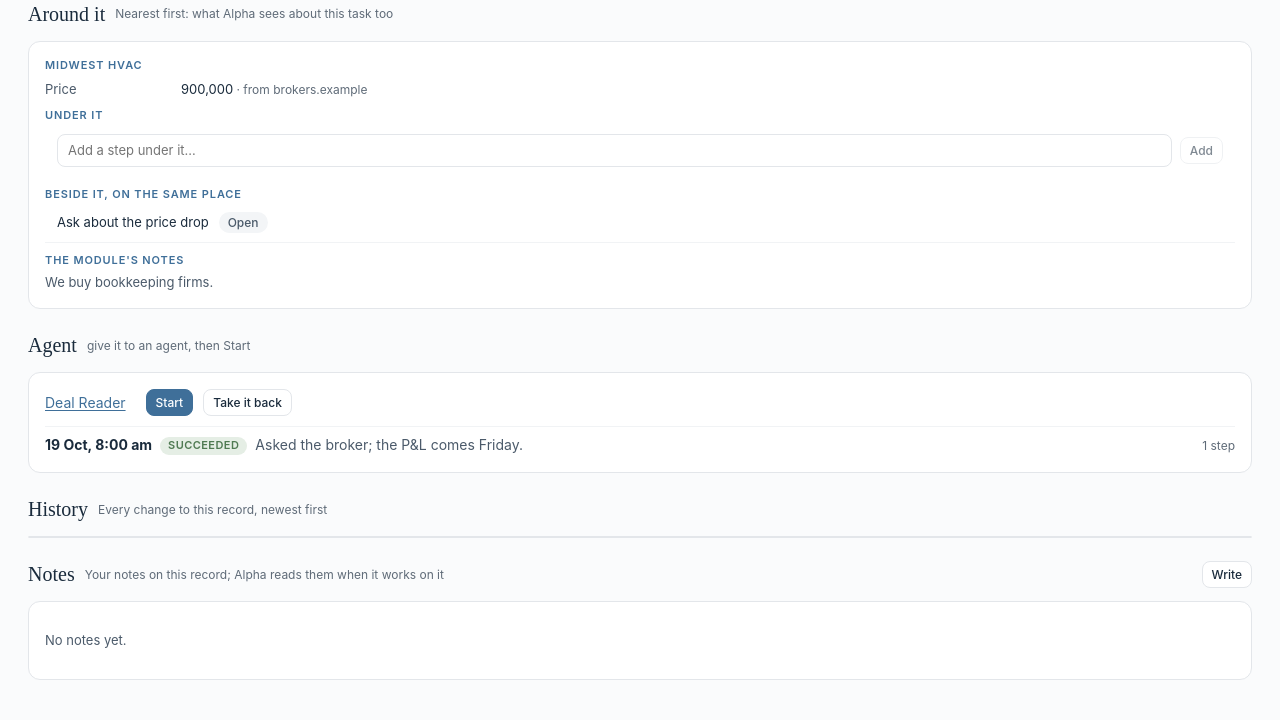
Test: a task's own page (P1) › starts the agent it was given and shows the run's steps (P2)
(page scrolled)
Click the button "Start".
click(169, 403)  # box [146,389,193,416]
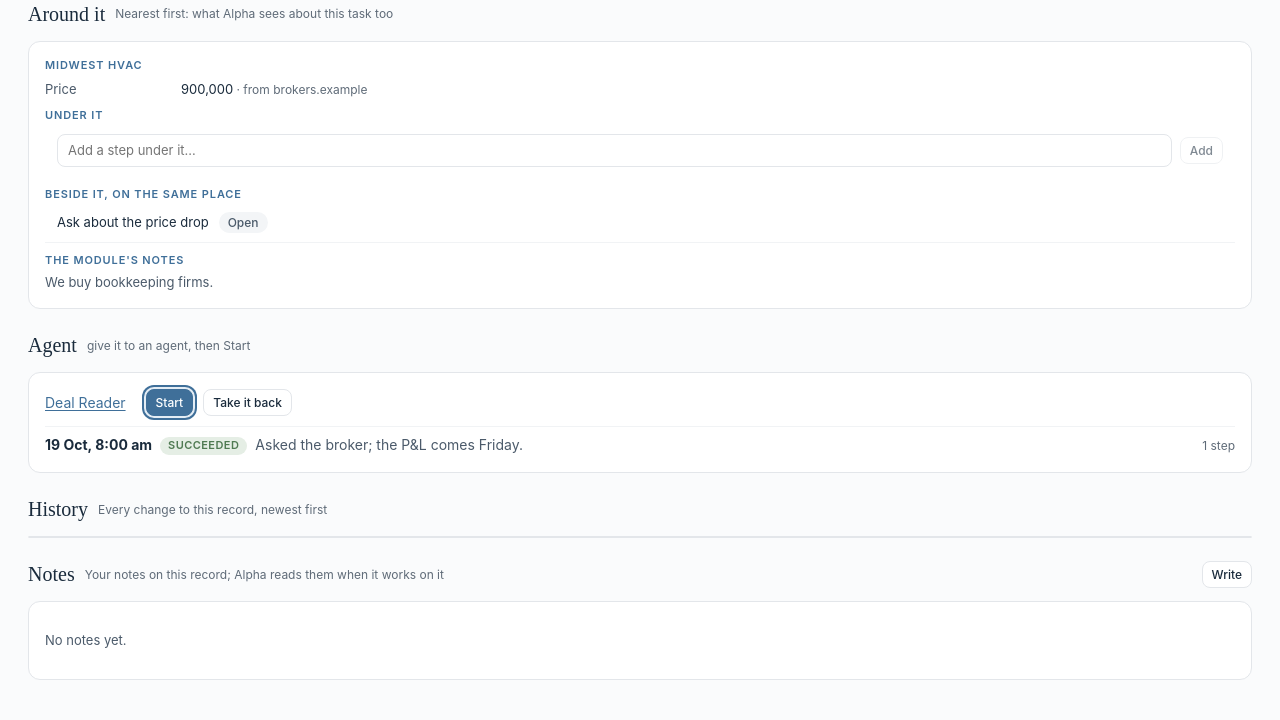
Click the button "Asked the broker; the P&L comes Friday".
click(99, 445)  # box [45,436,1235,456]
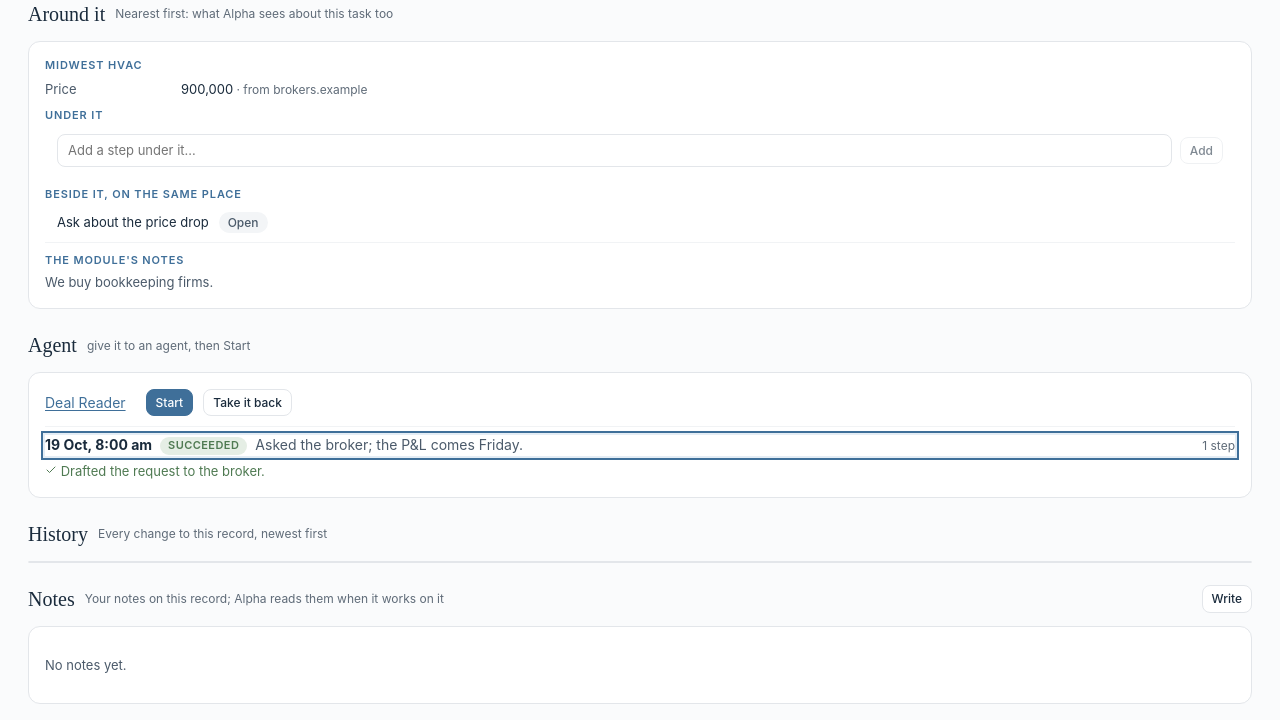
Expected: the list item "Drafted the request to the broker." is shown, [45,463,265,479]
